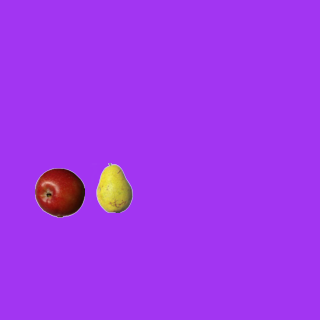Apple Braeburn: (34, 167, 84, 217)
Pear Monster: (89, 162, 139, 212)
